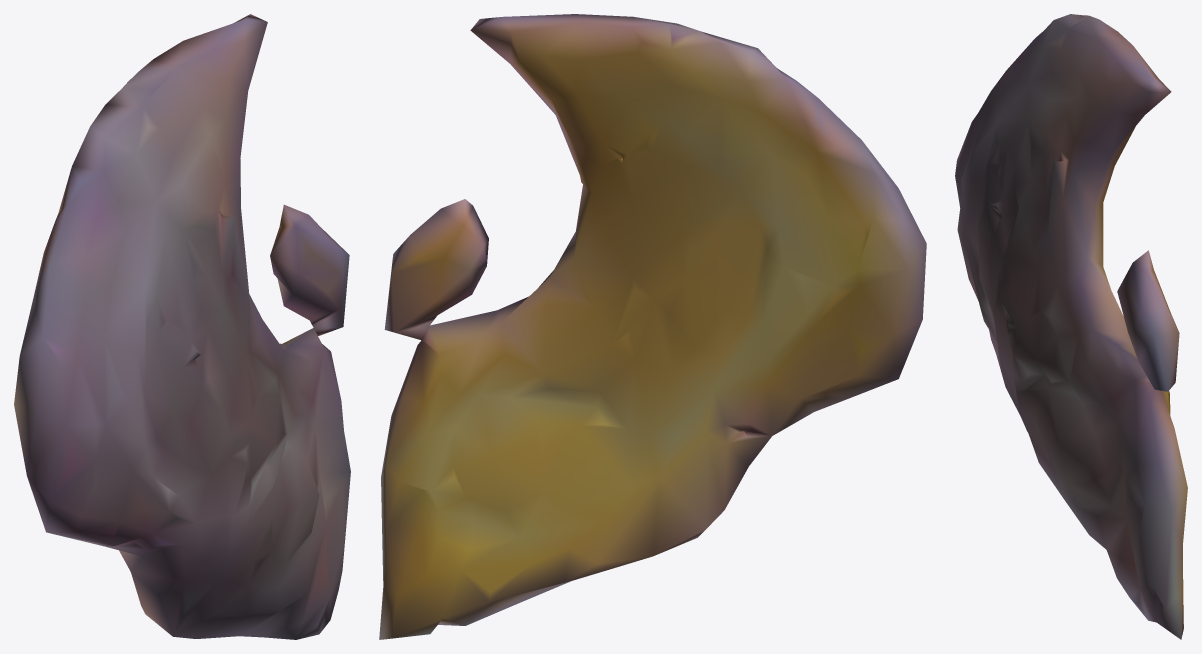
Rendered from nota_re.glb.
3 views of the same model, side by side, from view 1: azimuth 30°, elevation 25°; view 2: azimuth 150°, elevation 25°; view 3: azimuth 270°, elevation 25° (orthographic). The views are drawn at different scales.
Bounding box in the file's own units: 0.6882 × 0.9849 × 0.3966.
